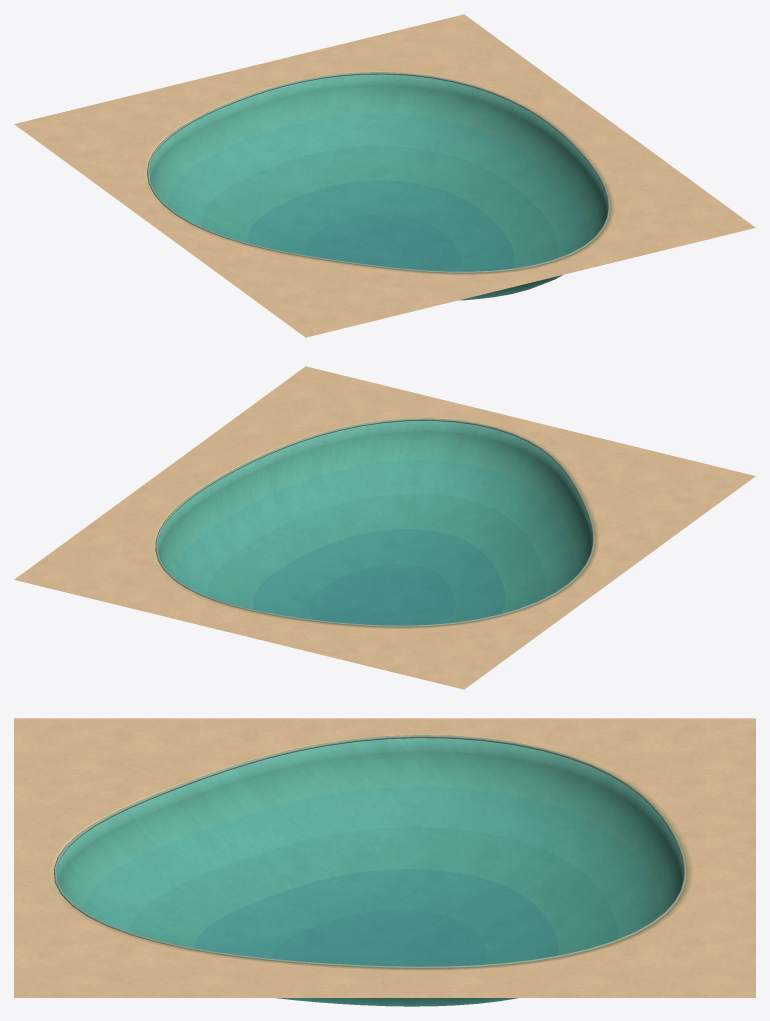
The model's file is basin-deep.glb.
3 renders of one model, top to bottom at view 1: azimuth 30°, elevation 25°; view 2: azimuth 150°, elevation 25°; view 3: azimuth 270°, elevation 25°, orthographic. The views are drawn at different scales.
Visible parts, largest first — view 1: basin-deep; view 2: basin-deep; view 3: basin-deep.
Boxes of the visible parts, x1,y1,x2,y2 form: basin-deep: (14, 14, 755, 337); basin-deep: (14, 366, 755, 689); basin-deep: (14, 718, 755, 1006).
Size of the model in its own units: 18 by 2.94 by 20.2.
Materials: 2 (1 with a texture image).
